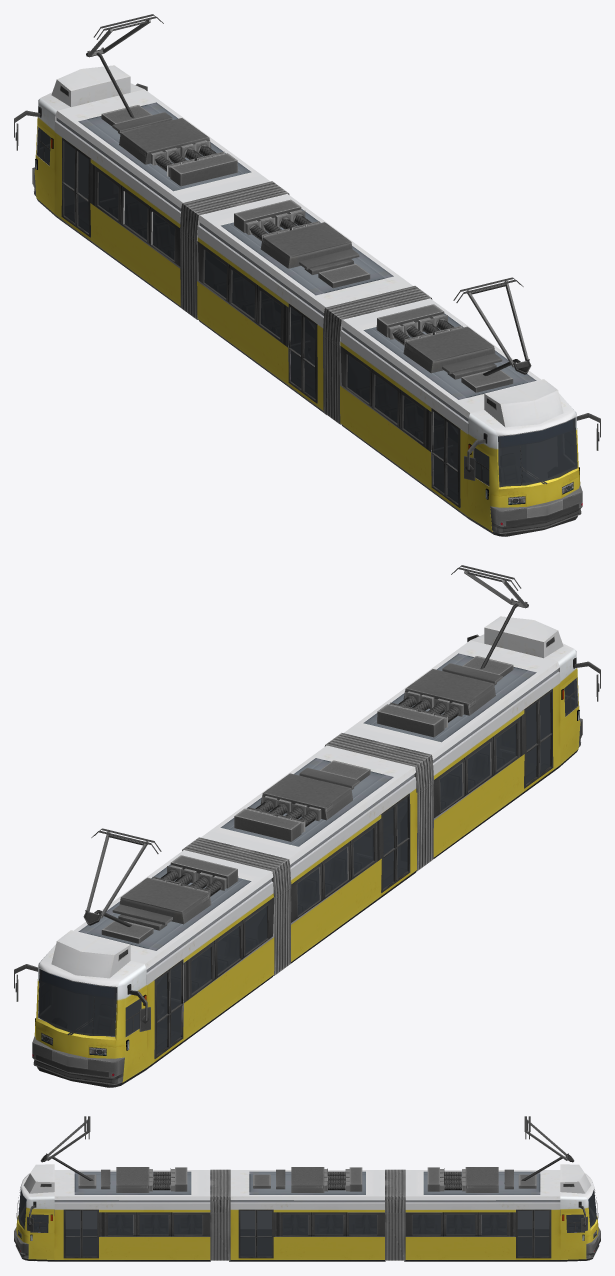
Rendered from Tram.glb.
The picture shows the model from 3 angles, top to bottom: view 1: azimuth 30°, elevation 25°; view 2: azimuth 150°, elevation 25°; view 3: azimuth 270°, elevation 25°; orthographic projection. The views are drawn at different scales.
Parts seen in each view (by area): view 1: Tram__LOD4; view 2: Tram__LOD4; view 3: Tram__LOD4.
Boxes of the visible parts, x1,y1,x2,y2 form: Tram__LOD4: [14, 14, 600, 536]; Tram__LOD4: [14, 565, 600, 1087]; Tram__LOD4: [14, 1116, 600, 1261].
Size of the model in its own units: 3.94 by 5.89 by 24.38.
2 materials, 2 textured.
